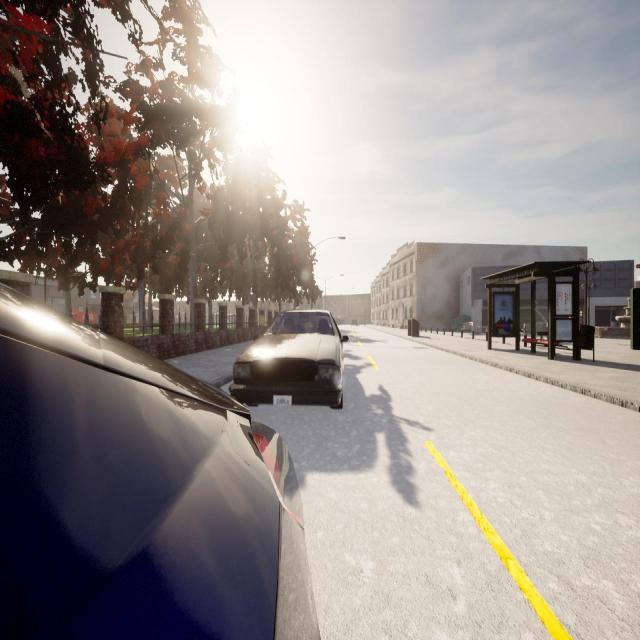Vehicle: (0, 284, 320, 640), (229, 309, 348, 409), (351, 319, 358, 326)
